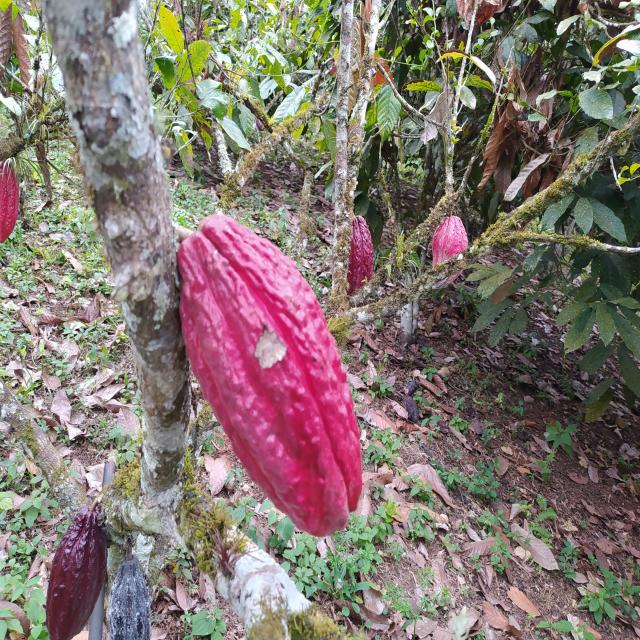Fitoftora: (112, 557, 152, 640)
Sana: (180, 213, 366, 538), (46, 514, 106, 640), (432, 218, 468, 295), (347, 215, 373, 297), (0, 164, 17, 238)
